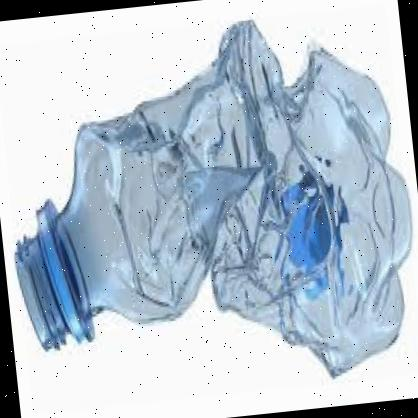bottle: (0, 4, 418, 415)
